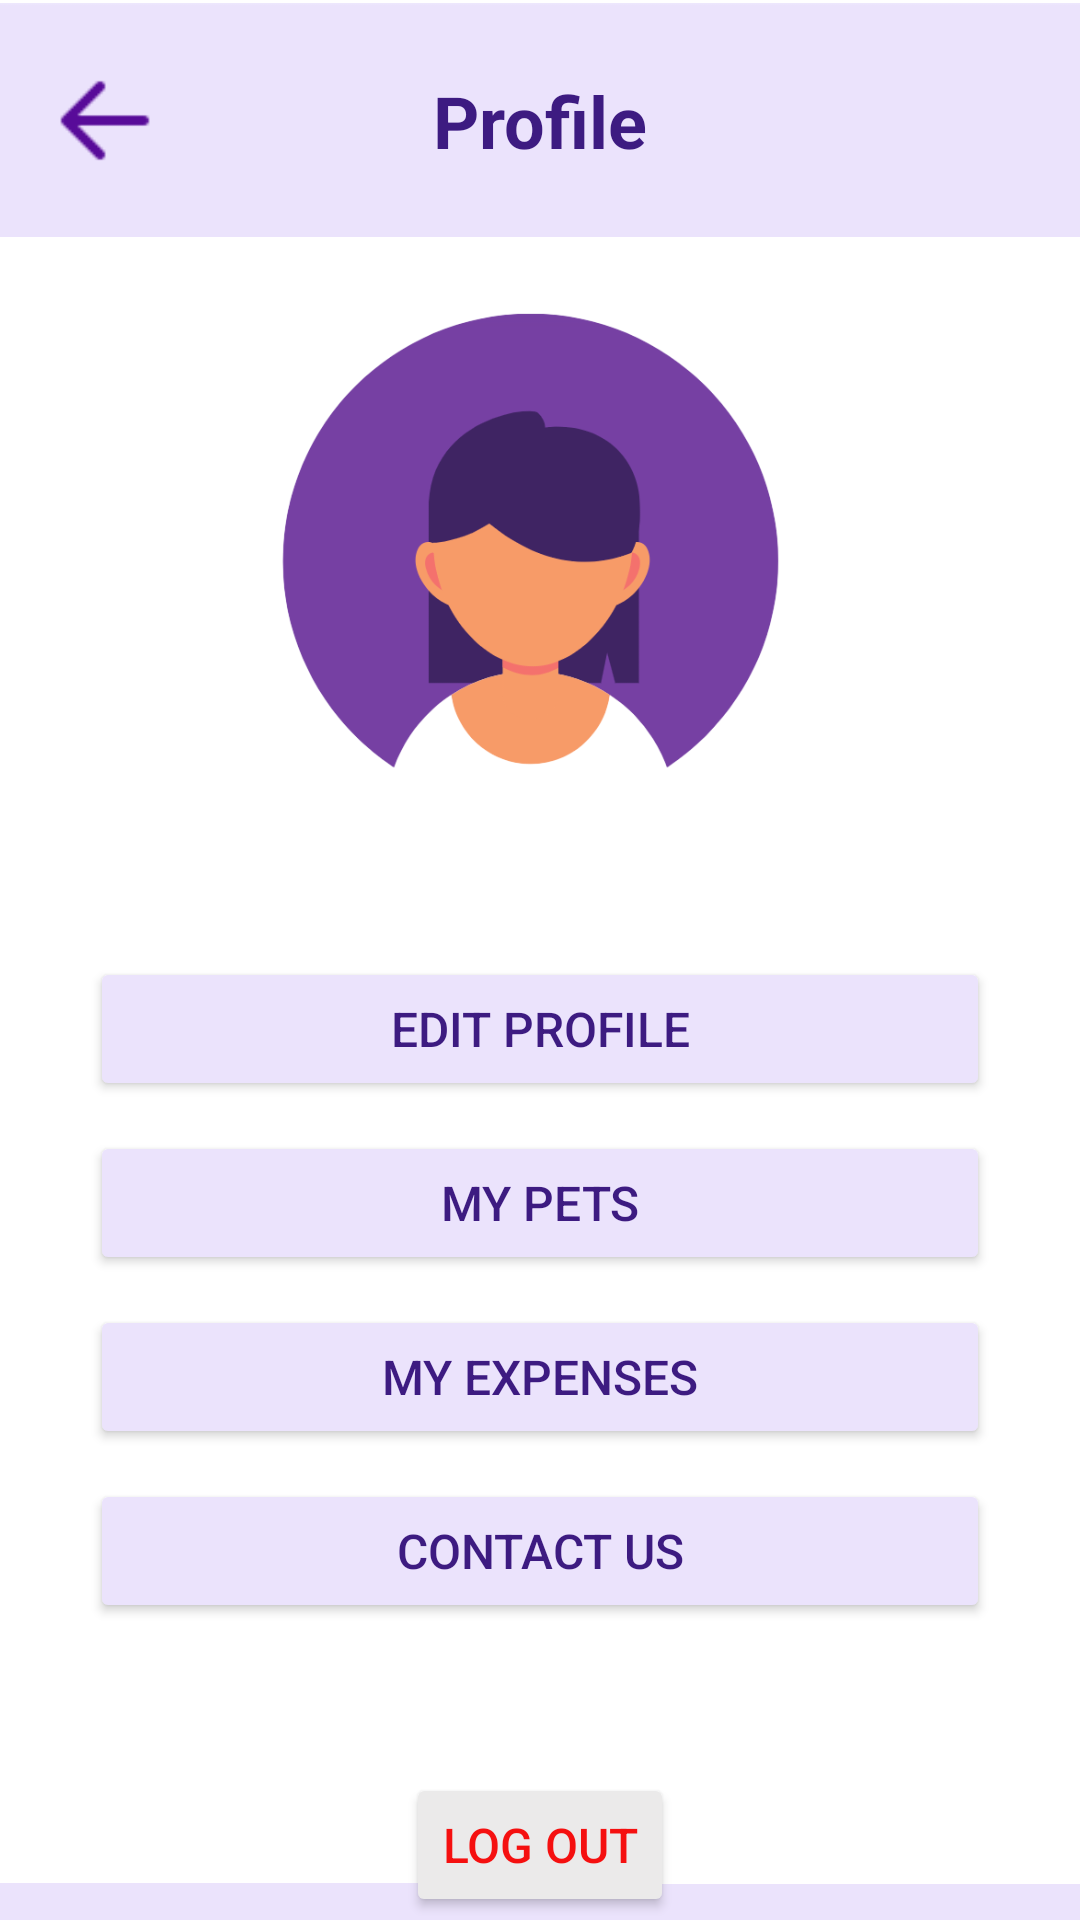

Where icons sit on this 1080×1920 app screen, as BBox(x1, y1, x2, y2):
arrowback: BBox(60, 81, 150, 160)
